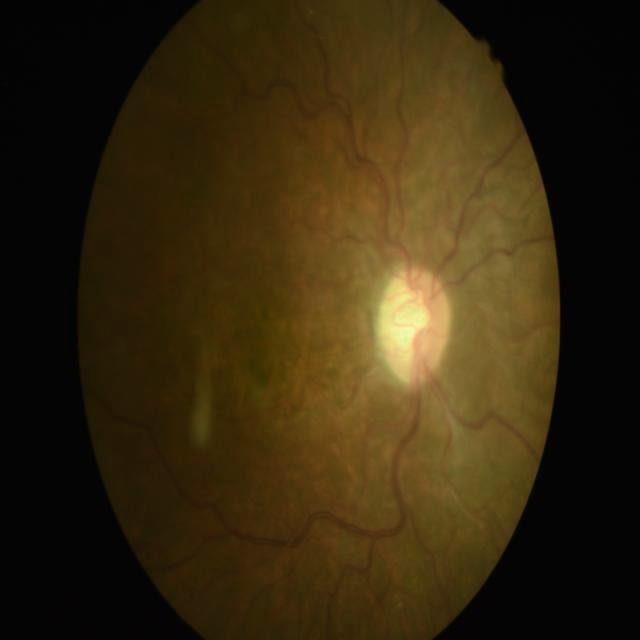cup: (389, 283, 436, 367)
disk: (377, 265, 452, 383)
